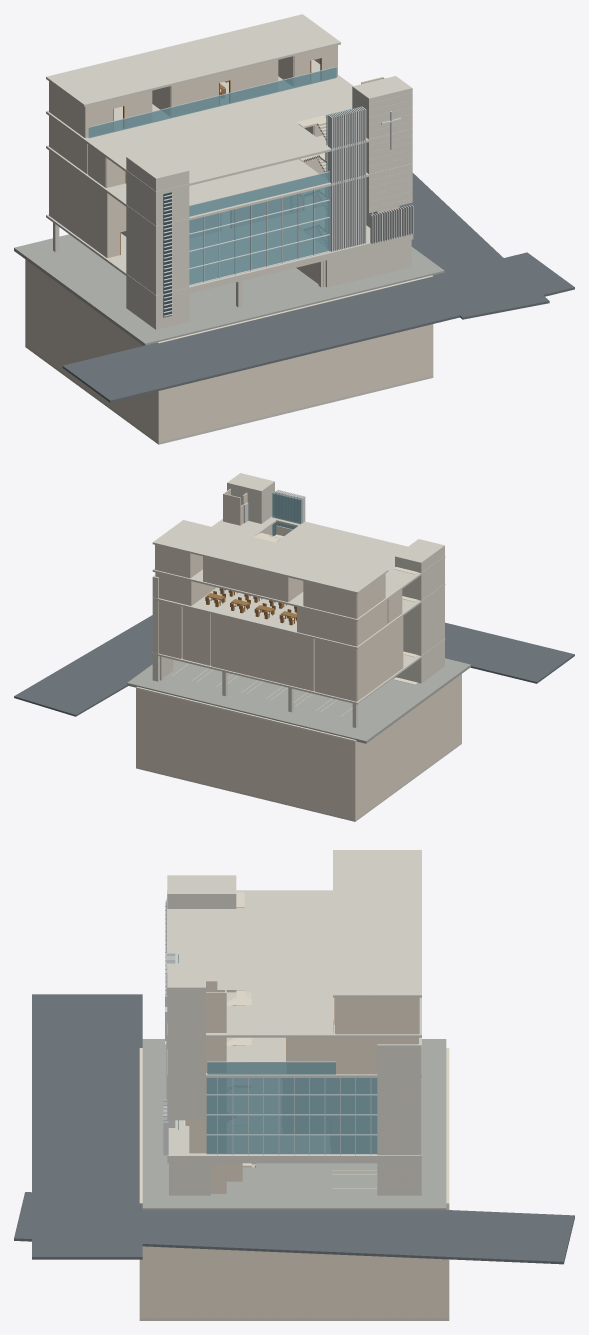
File: church-v13.glb
3 renders of one model, top to bottom at view 1: azimuth 30°, elevation 25°; view 2: azimuth 150°, elevation 25°; view 3: azimuth 270°, elevation 25°, orthographic. The views are drawn at different scales.
Parts seen in each view (by area): view 1: SITE_Front_Road, SLAB_95, B1_Wall_South, SITE_Sidewalk, ROOF_Setback, HERO_Left_Stair_Tower, SITE_Right_Road, Front_Left_Glass, B1_Wall_West, SLAB_31, HERO_Cross_Tower, SLAB_63 (+19 smaller); view 2: B1_Wall_North, SITE_Sidewalk, B1_Wall_West, ROOF_Setback, SITE_Right_Road, 02_CentralRoom_N, SLAB_95, HERO_Left_Stair_Tower, SITE_Front_Road, SLAB_63, 02_Office_N, 04_Classroom_N (+17 smaller); view 3: SITE_Front_Road, B1_Wall_East, SITE_Right_Road, SLAB_95, SITE_Sidewalk, ROOF_Setback, Right_Glass, HERO_Right_End_Pier, HERO_Cross_Tower, SLAB_31, 04_RightRoom_E, SLAB_63 (+13 smaller).
Part boxes in pixels (box(x1,y1,x2,y2)): SITE_Front_Road: box(62, 252, 574, 402); SLAB_95: box(46, 60, 412, 193); B1_Wall_South: box(157, 324, 433, 442); SITE_Sidewalk: box(14, 234, 444, 345); ROOF_Setback: box(46, 14, 340, 106); HERO_Left_Stair_Tower: box(126, 149, 189, 329); SITE_Right_Road: box(399, 173, 549, 319); Front_Left_Glass: box(189, 186, 330, 284); B1_Wall_West: box(26, 260, 158, 441); SLAB_31: box(46, 196, 412, 297); HERO_Cross_Tower: box(352, 76, 412, 212); SLAB_63: box(46, 135, 412, 228); B1_Wall_North: box(136, 689, 355, 819); SITE_Sidewalk: box(127, 658, 470, 743); B1_Wall_West: box(353, 675, 460, 819); ROOF_Setback: box(152, 520, 388, 593); SITE_Right_Road: box(14, 615, 152, 716); 02_CentralRoom_N: box(211, 613, 313, 691); SLAB_95: box(152, 515, 445, 621); HERO_Left_Stair_Tower: box(395, 539, 444, 683); SITE_Front_Road: box(445, 622, 574, 683); SLAB_63: box(152, 583, 445, 649); 02_Office_N: box(315, 639, 356, 701); 04_Classroom_N: box(203, 556, 288, 602); SITE_Front_Road: box(32, 994, 142, 1259); B1_Wall_East: box(139, 1205, 449, 1318); SITE_Right_Road: box(14, 1192, 574, 1264); SLAB_95: box(167, 890, 421, 1037); SITE_Sidewalk: box(142, 1039, 446, 1210); ROOF_Setback: box(333, 850, 421, 997); Right_Glass: box(206, 1078, 377, 1153); HERO_Right_End_Pier: box(377, 1041, 421, 1195); HERO_Cross_Tower: box(167, 963, 205, 1120); SLAB_31: box(167, 1037, 421, 1157); 04_RightRoom_E: box(336, 997, 418, 1034); SLAB_63: box(167, 992, 421, 1077).
Size of the model in its own units: 45.81 by 26.2 by 40.6.
